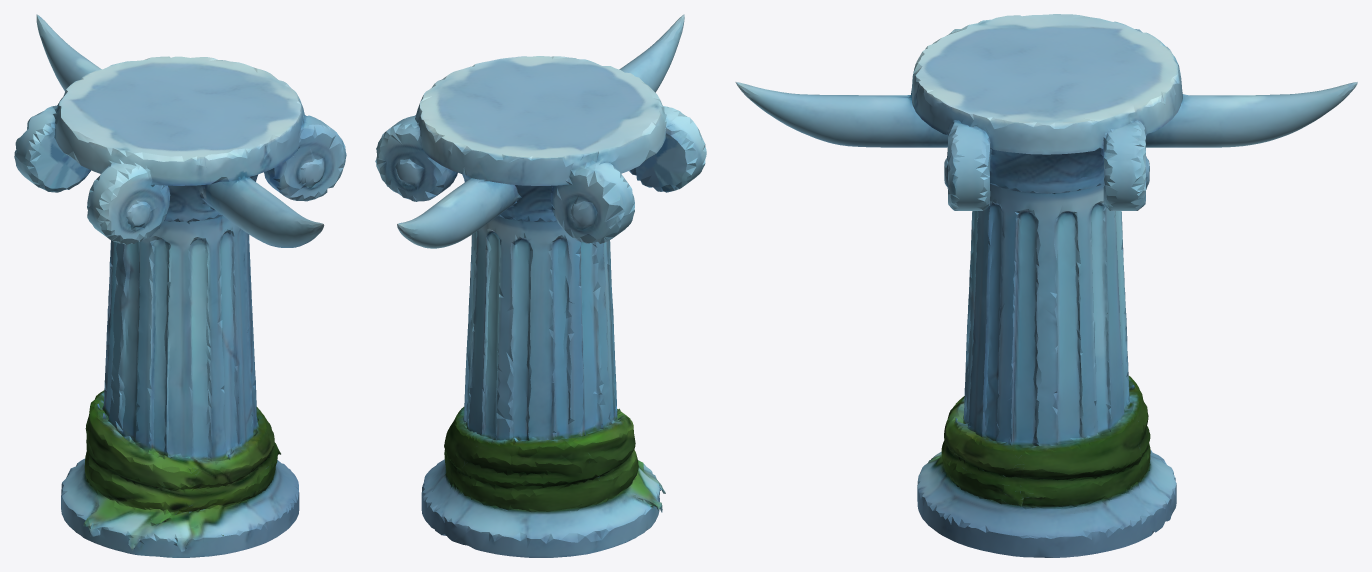
Rendered from Atlantis_ColumnIntact.glb.
The picture shows the model from 3 angles, left to right: view 1: azimuth 30°, elevation 25°; view 2: azimuth 150°, elevation 25°; view 3: azimuth 270°, elevation 25°; orthographic projection. The views are drawn at different scales.
Visible parts, largest first — view 1: Atlantis_ColumnIntact; view 2: Atlantis_ColumnIntact; view 3: Atlantis_ColumnIntact.
Boxes of the visible parts, x1,y1,x2,y2 form: Atlantis_ColumnIntact: [14, 14, 346, 557]; Atlantis_ColumnIntact: [375, 14, 706, 557]; Atlantis_ColumnIntact: [735, 14, 1357, 557].
Bounding box in the file's own units: 1.81 × 2.8 × 3.63.
1 material, 1 textured.
